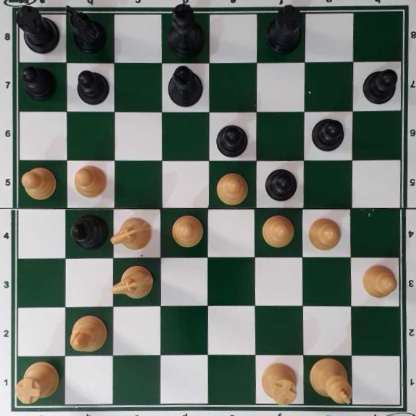black-bishop: (167, 65, 204, 108), (72, 212, 108, 250)
black-king: (166, 3, 205, 59)
black-knight: (65, 6, 106, 51)
black-pawn: (362, 67, 398, 104), (21, 64, 57, 99), (216, 121, 250, 157), (311, 116, 345, 151), (264, 166, 297, 202), (75, 67, 107, 104)
black-rook: (14, 1, 60, 53), (265, 4, 303, 53)
white-bishop: (68, 314, 108, 353)
white-king: (309, 356, 352, 406)
white-knight: (112, 264, 153, 300), (110, 216, 153, 250)
white-pawn: (360, 263, 397, 299), (307, 213, 341, 251), (215, 172, 249, 206), (73, 164, 107, 198), (21, 166, 56, 199), (261, 213, 294, 247), (170, 214, 203, 246)
white-rook: (14, 360, 60, 403), (261, 363, 299, 405)
